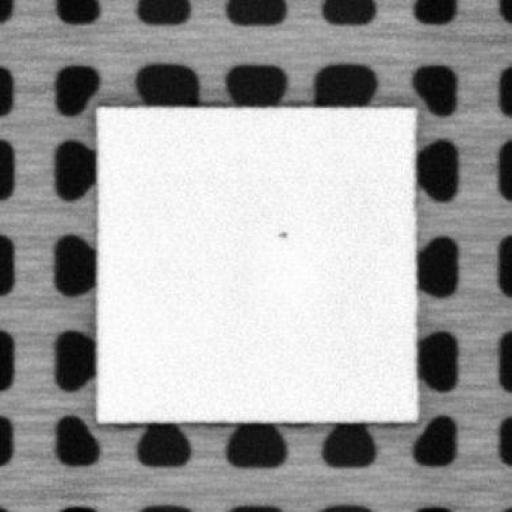DIE_INK: (275, 226, 286, 238)
